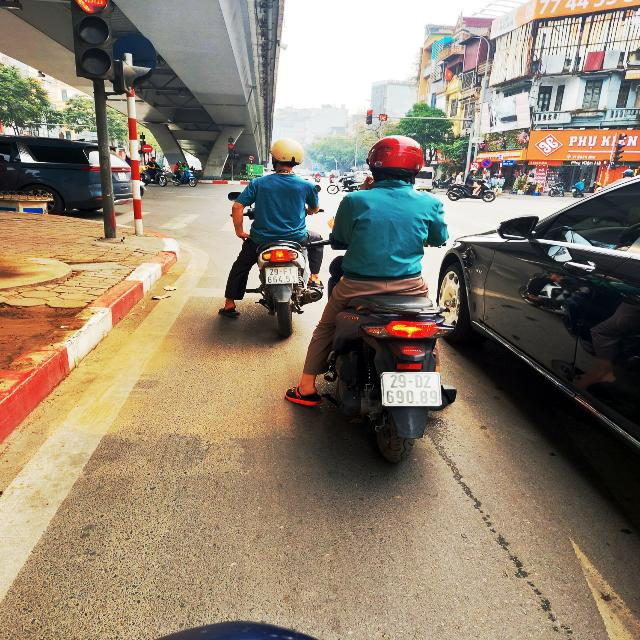license_plate: (383, 375, 442, 407), (266, 267, 299, 284)
